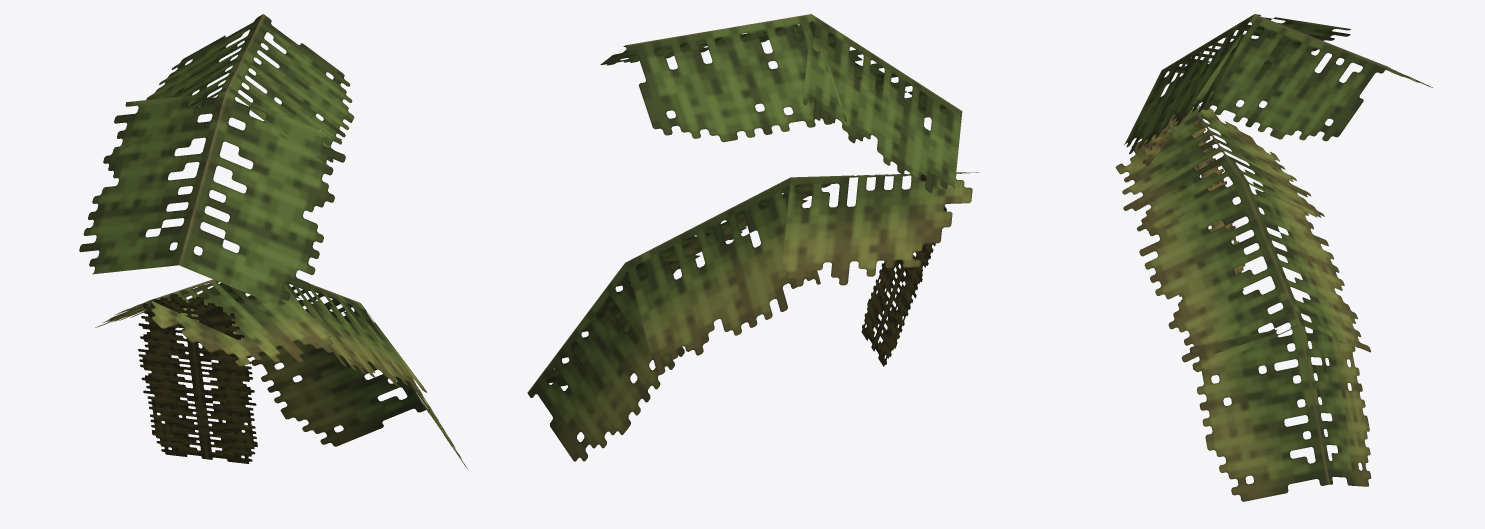
Rendered from coconut_palm_corner_2.obj.
The picture shows the model from 3 angles, left to right: view 1: azimuth 30°, elevation 25°; view 2: azimuth 150°, elevation 25°; view 3: azimuth 270°, elevation 25°; orthographic projection. The views are drawn at different scales.
Parts seen in each view (by area): view 1: cube.323; view 2: cube.323; view 3: cube.323.
Part boxes in pixels (left/top/right/bottom): cube.323: left=79, top=14, right=467, bottom=469; cube.323: left=527, top=14, right=979, bottom=461; cube.323: left=1115, top=14, right=1432, bottom=501.
Size of the model in its own units: 3 by 3.17 by 2.87.
